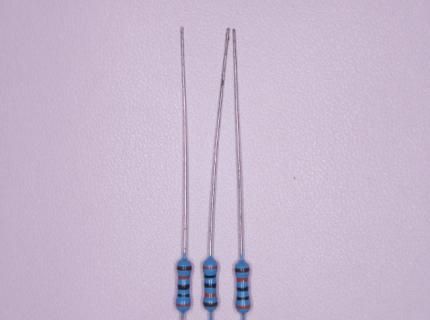Black band: (178, 284, 190, 290), (236, 296, 250, 301), (204, 283, 217, 288), (204, 274, 217, 279), (237, 286, 249, 291), (178, 294, 191, 298)
Brown band: (203, 301, 218, 307), (235, 267, 250, 273), (177, 266, 192, 271)
Orange band: (236, 305, 251, 310), (236, 277, 249, 282), (175, 303, 191, 307), (203, 266, 218, 270), (204, 293, 216, 297), (178, 276, 190, 279)
